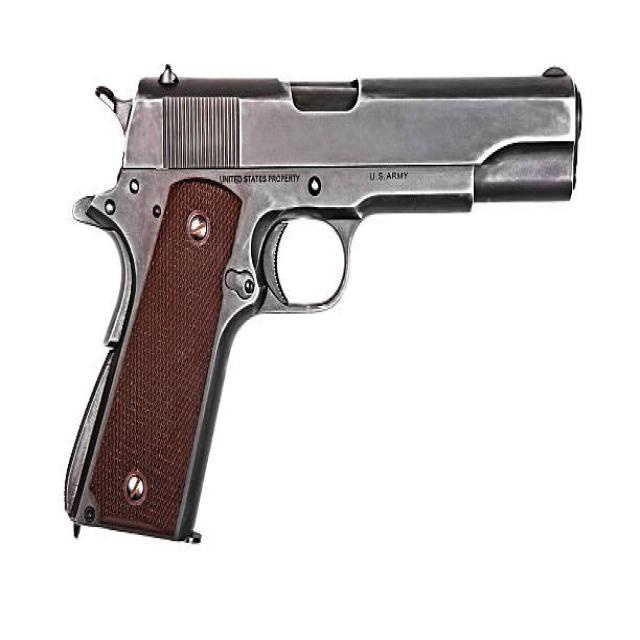pistol: (59, 59, 586, 557)
